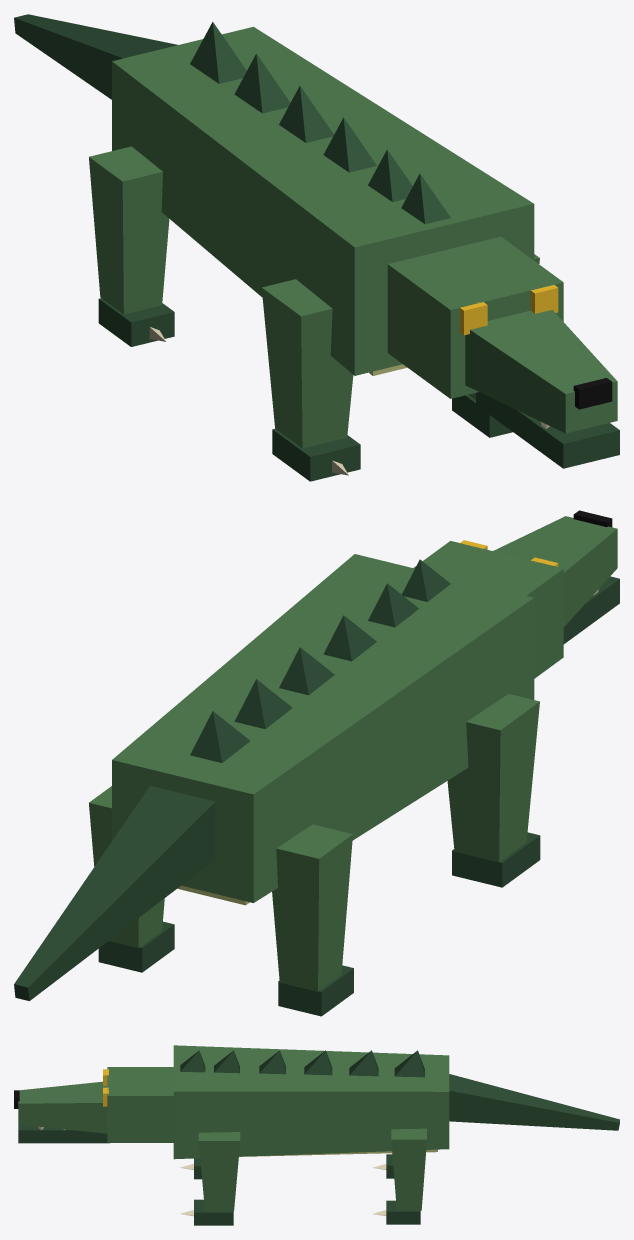
Rendered from MonsterStalker.obj.
3 renders of one model, top to bottom at view 1: azimuth 30°, elevation 25°; view 2: azimuth 150°, elevation 25°; view 3: azimuth 270°, elevation 25°, orthographic. The views are drawn at different scales.
Visible parts, largest first — view 1: Body, Head, LegFL, LegBL, Tail, LegFR; view 2: Body, Tail, Head, LegFL, LegBL, LegBR; view 3: Body, Head, Tail, LegFR, LegBR.
Part boxes in pixels (x1,y1,x2,y2): Body: (112, 22, 534, 375); Head: (387, 236, 619, 468); LegFL: (261, 279, 360, 481); LegBL: (89, 146, 174, 346); Tail: (14, 14, 177, 99); LegFR: (452, 254, 539, 437); Body: (112, 554, 534, 905); Tail: (14, 785, 215, 1000); Head: (413, 510, 619, 678); LegFL: (447, 694, 540, 887); LegBL: (272, 824, 353, 1016); LegBR: (89, 786, 174, 972); Body: (173, 1045, 449, 1159); Head: (14, 1067, 173, 1143); Tail: (449, 1074, 619, 1130); LegFR: (180, 1132, 240, 1225); LegBR: (372, 1128, 426, 1224).
Size of the model in its own units: 0.506 by 0.56 by 2.11.
